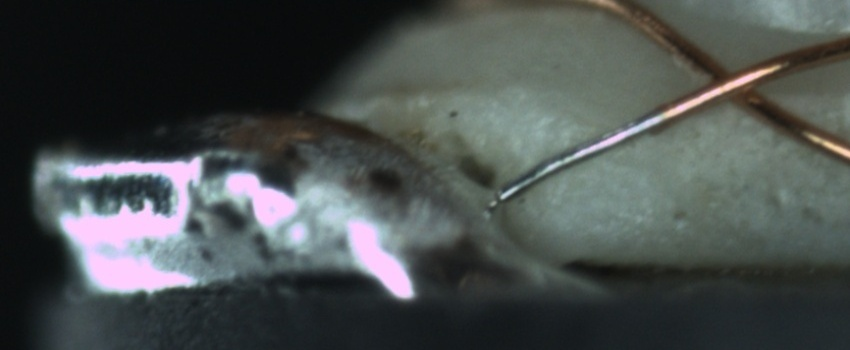CL: (676, 45, 786, 119)
TS: (496, 104, 666, 205)
